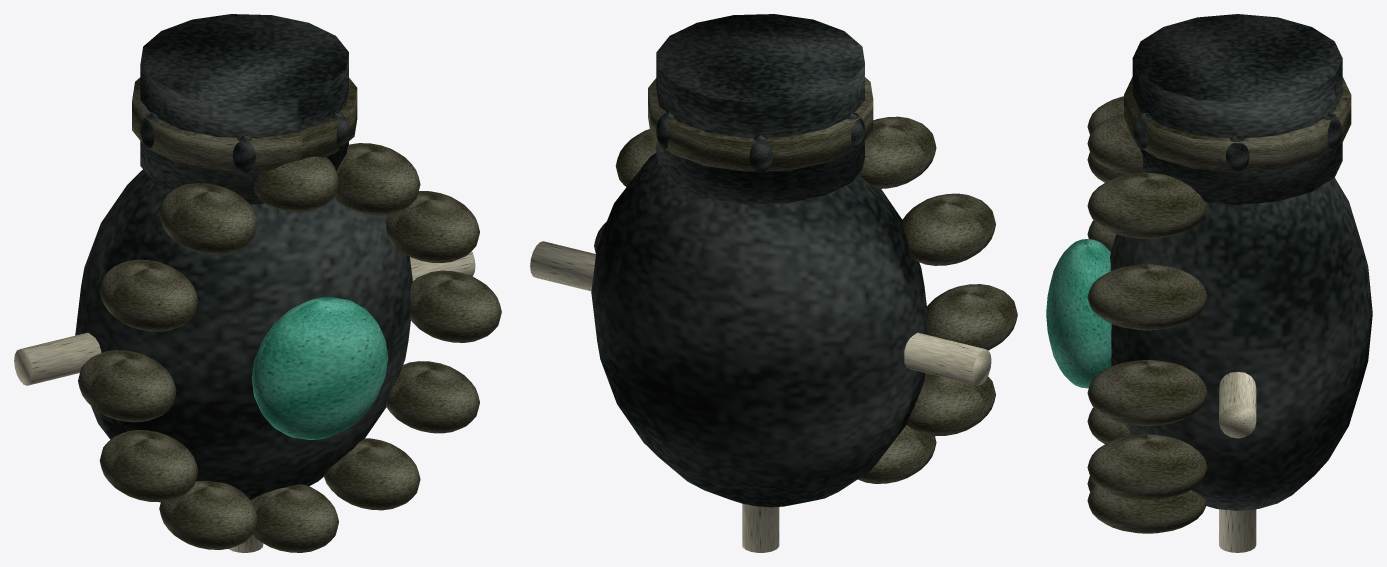
Rendered from organ-stabilizer.glb.
3 views of the same model, side by side, from view 1: azimuth 30°, elevation 25°; view 2: azimuth 150°, elevation 25°; view 3: azimuth 270°, elevation 25° (orthographic).
Visible parts, largest first — view 1: organ-stabilizer; view 2: organ-stabilizer; view 3: organ-stabilizer.
Part boxes in pixels (bbox=[...]): organ-stabilizer: bbox=[14, 14, 501, 552]; organ-stabilizer: bbox=[530, 14, 1017, 552]; organ-stabilizer: bbox=[1046, 14, 1372, 552].
Size of the model in its own units: 0.68 by 0.715 by 0.435.
Materials: 4 (4 with a texture image).
